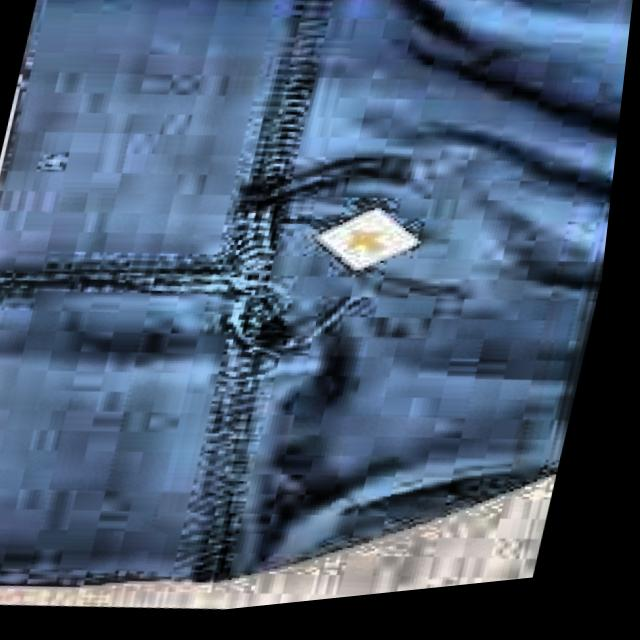Stitch: (195, 102, 397, 251), (199, 266, 395, 414)
